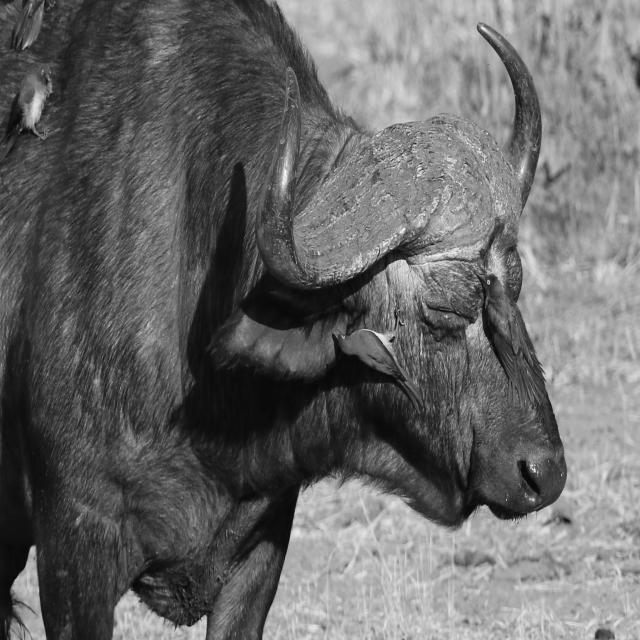Buffalo: (0, 1, 568, 639)
